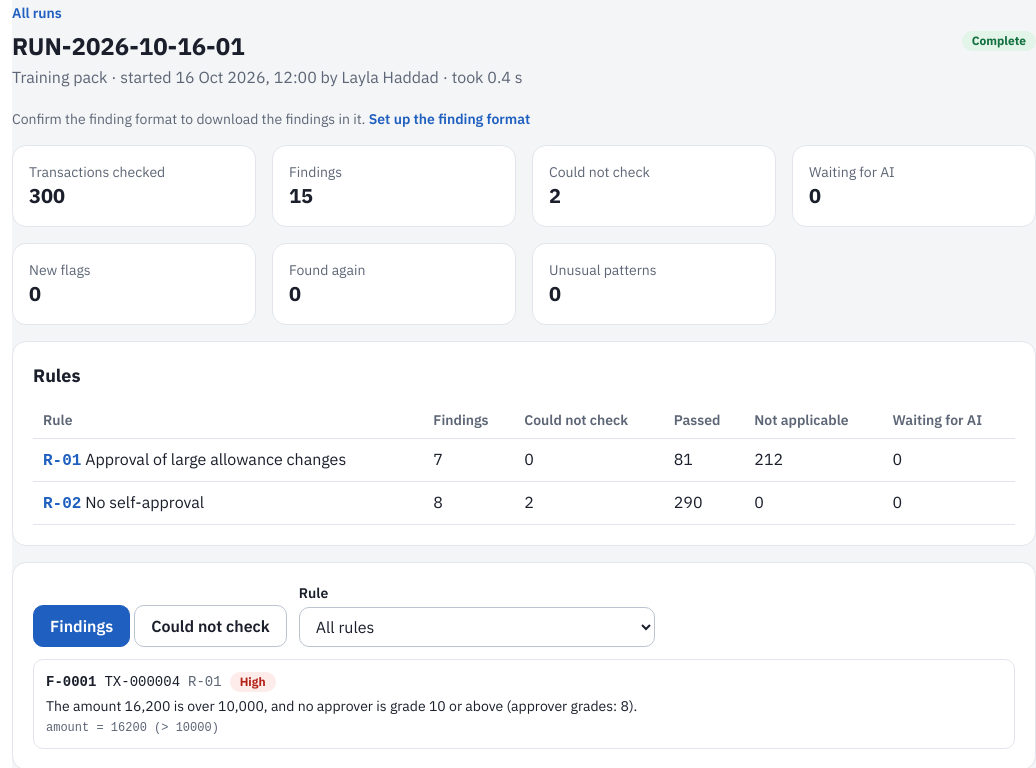
Test: RunPage › says in words why AI couldn't check a transaction
Click the button "Could not check": (210, 626) [134,605,287,647]
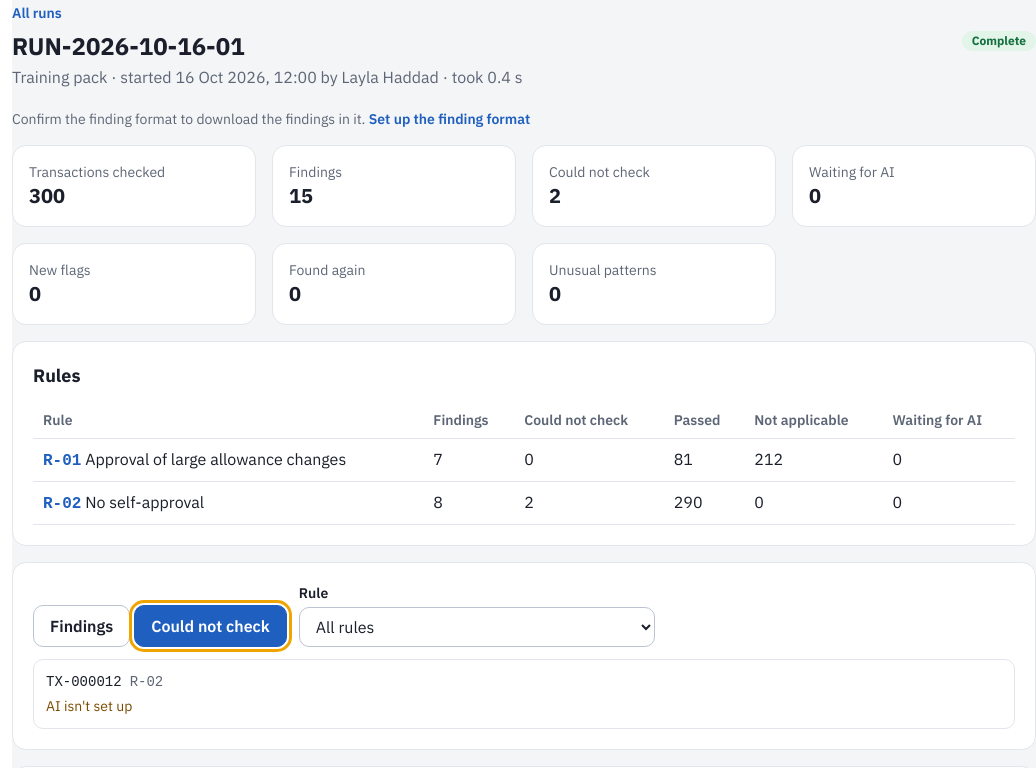
expect the text "AI isn't set up" is shown: met, box [46,697,132,715]
